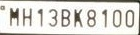character: (123, 8, 135, 28), (8, 6, 19, 27), (47, 8, 58, 27), (22, 7, 32, 27), (60, 8, 70, 28), (73, 8, 83, 27), (86, 8, 96, 27), (111, 8, 121, 27), (100, 7, 108, 28), (36, 7, 43, 26)
